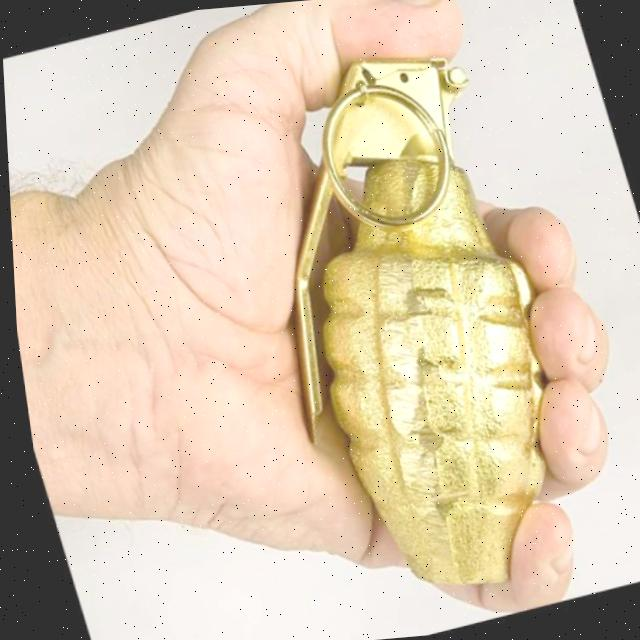grenade: (187, 9, 622, 630)
